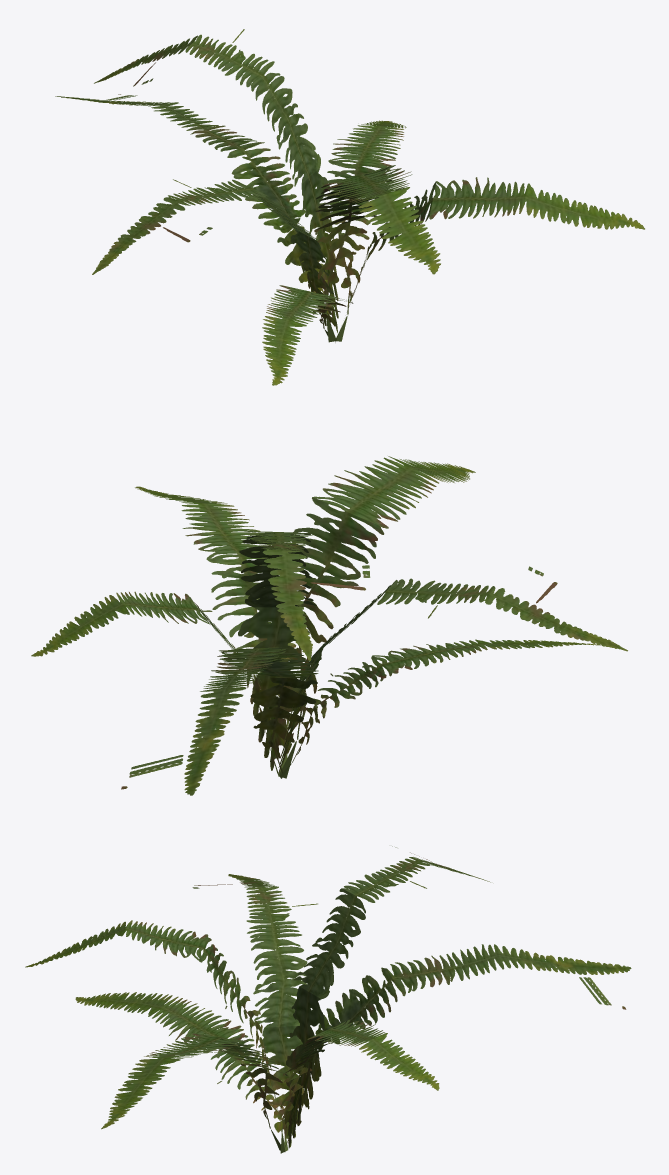
Rendered from fern-b.glb.
The picture shows the model from 3 angles, top to bottom: view 1: azimuth 30°, elevation 25°; view 2: azimuth 150°, elevation 25°; view 3: azimuth 270°, elevation 25°; orthographic projection. The views are drawn at different scales.
Visible parts, largest first — view 1: fern_29; view 2: fern_29; view 3: fern_29.
Part boxes in pixels (bbox=[...]): fern_29: bbox=[55, 29, 644, 385]; fern_29: bbox=[31, 456, 627, 795]; fern_29: bbox=[25, 846, 631, 1153].
Bounding box in the file's own units: 1.41 × 0.6871 × 1.52.
Materials: 1 (1 with a texture image).
